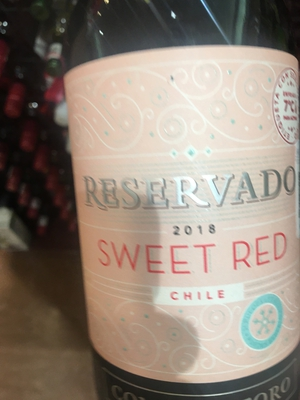reservado sweet red: (57, 6, 300, 390)
